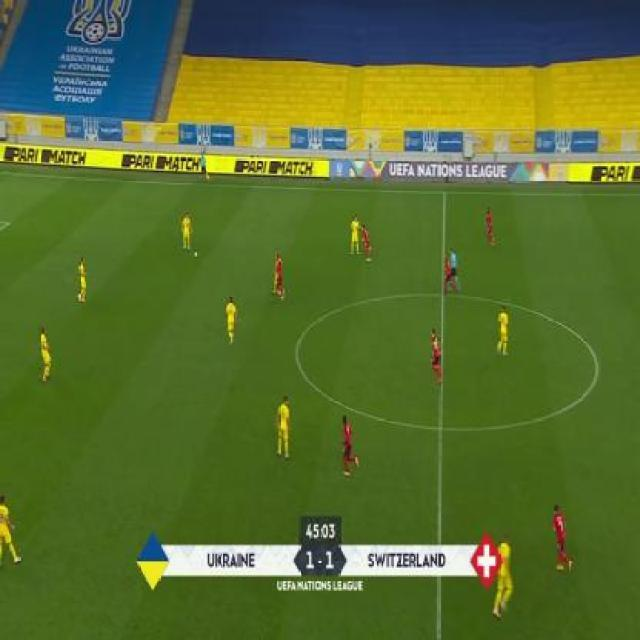ball: (194, 249, 199, 258)
player: (491, 533, 516, 619), (549, 502, 574, 573), (0, 491, 23, 568), (339, 413, 359, 478), (275, 395, 292, 460), (428, 326, 444, 385), (37, 326, 53, 383), (495, 304, 511, 357), (270, 252, 286, 300), (224, 295, 238, 344), (75, 255, 89, 304), (448, 247, 461, 296), (349, 215, 363, 257), (359, 221, 373, 261), (484, 206, 497, 248), (180, 212, 194, 251), (442, 253, 453, 296), (199, 151, 210, 182)
